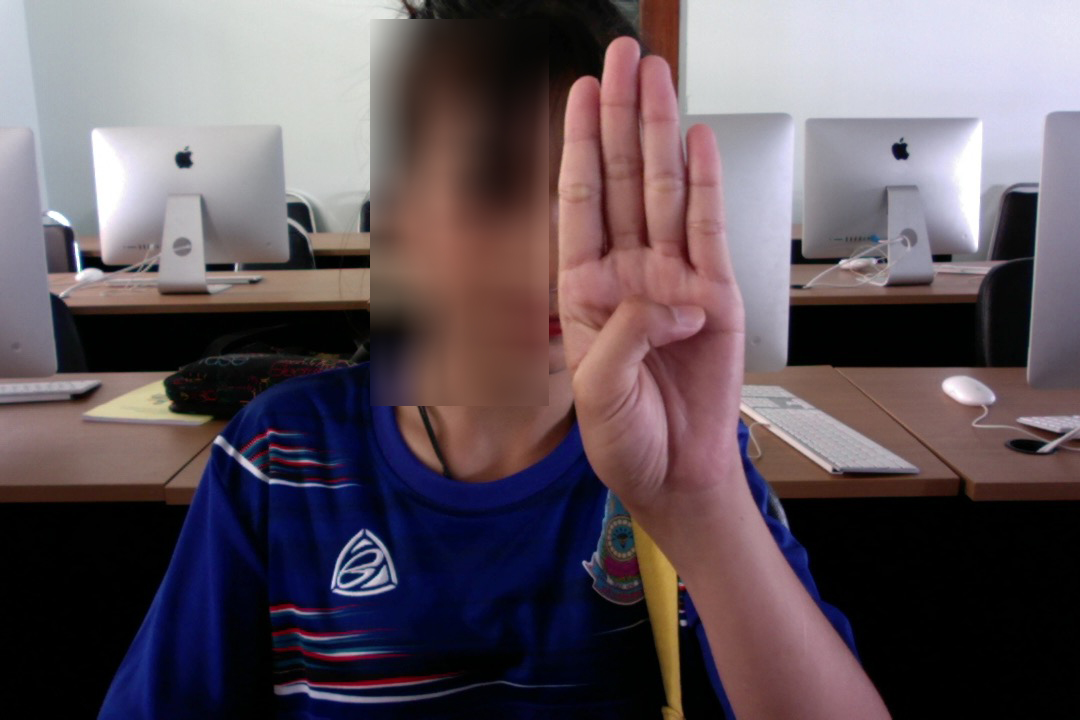bor: (547, 28, 757, 516)
